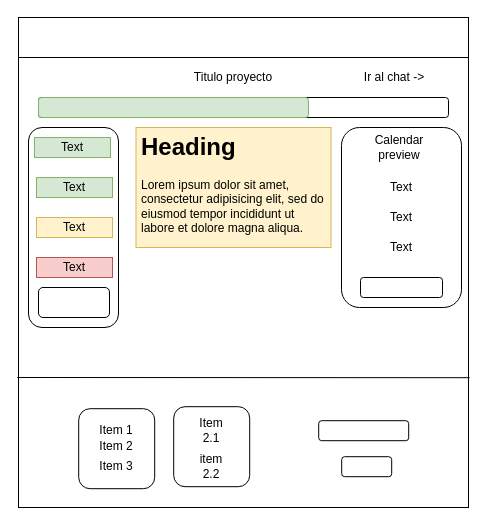
The diagram is 489 pixels wide and 525 high, and some of its shapes have lost their labels. Each missing label, with the centre of its shape:
avanzar etapa: the point at 74,302
Calendario: the point at 401,287
